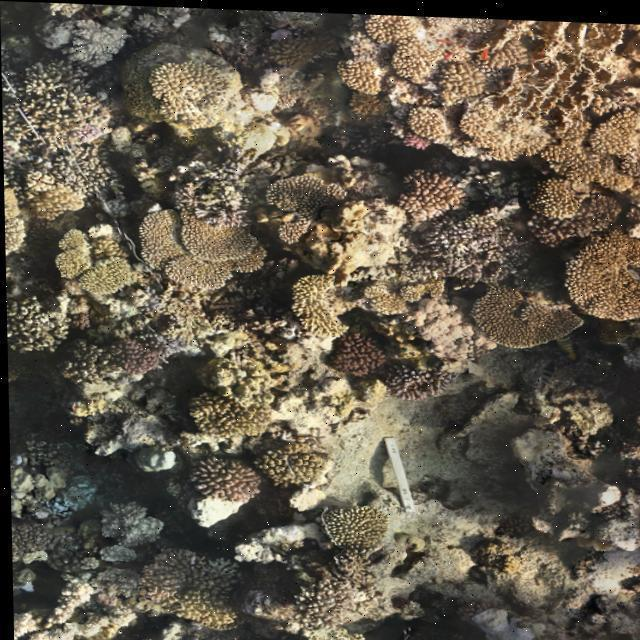Bleached Coral: (59, 11, 130, 70)
Healthy Coral: (333, 11, 599, 149), (545, 104, 632, 328), (141, 215, 273, 302), (469, 277, 594, 358), (54, 218, 135, 318), (260, 164, 351, 236), (413, 152, 462, 230), (331, 335, 409, 383), (198, 402, 282, 446), (288, 268, 340, 335), (324, 510, 395, 556), (284, 448, 332, 492), (116, 341, 167, 382)
